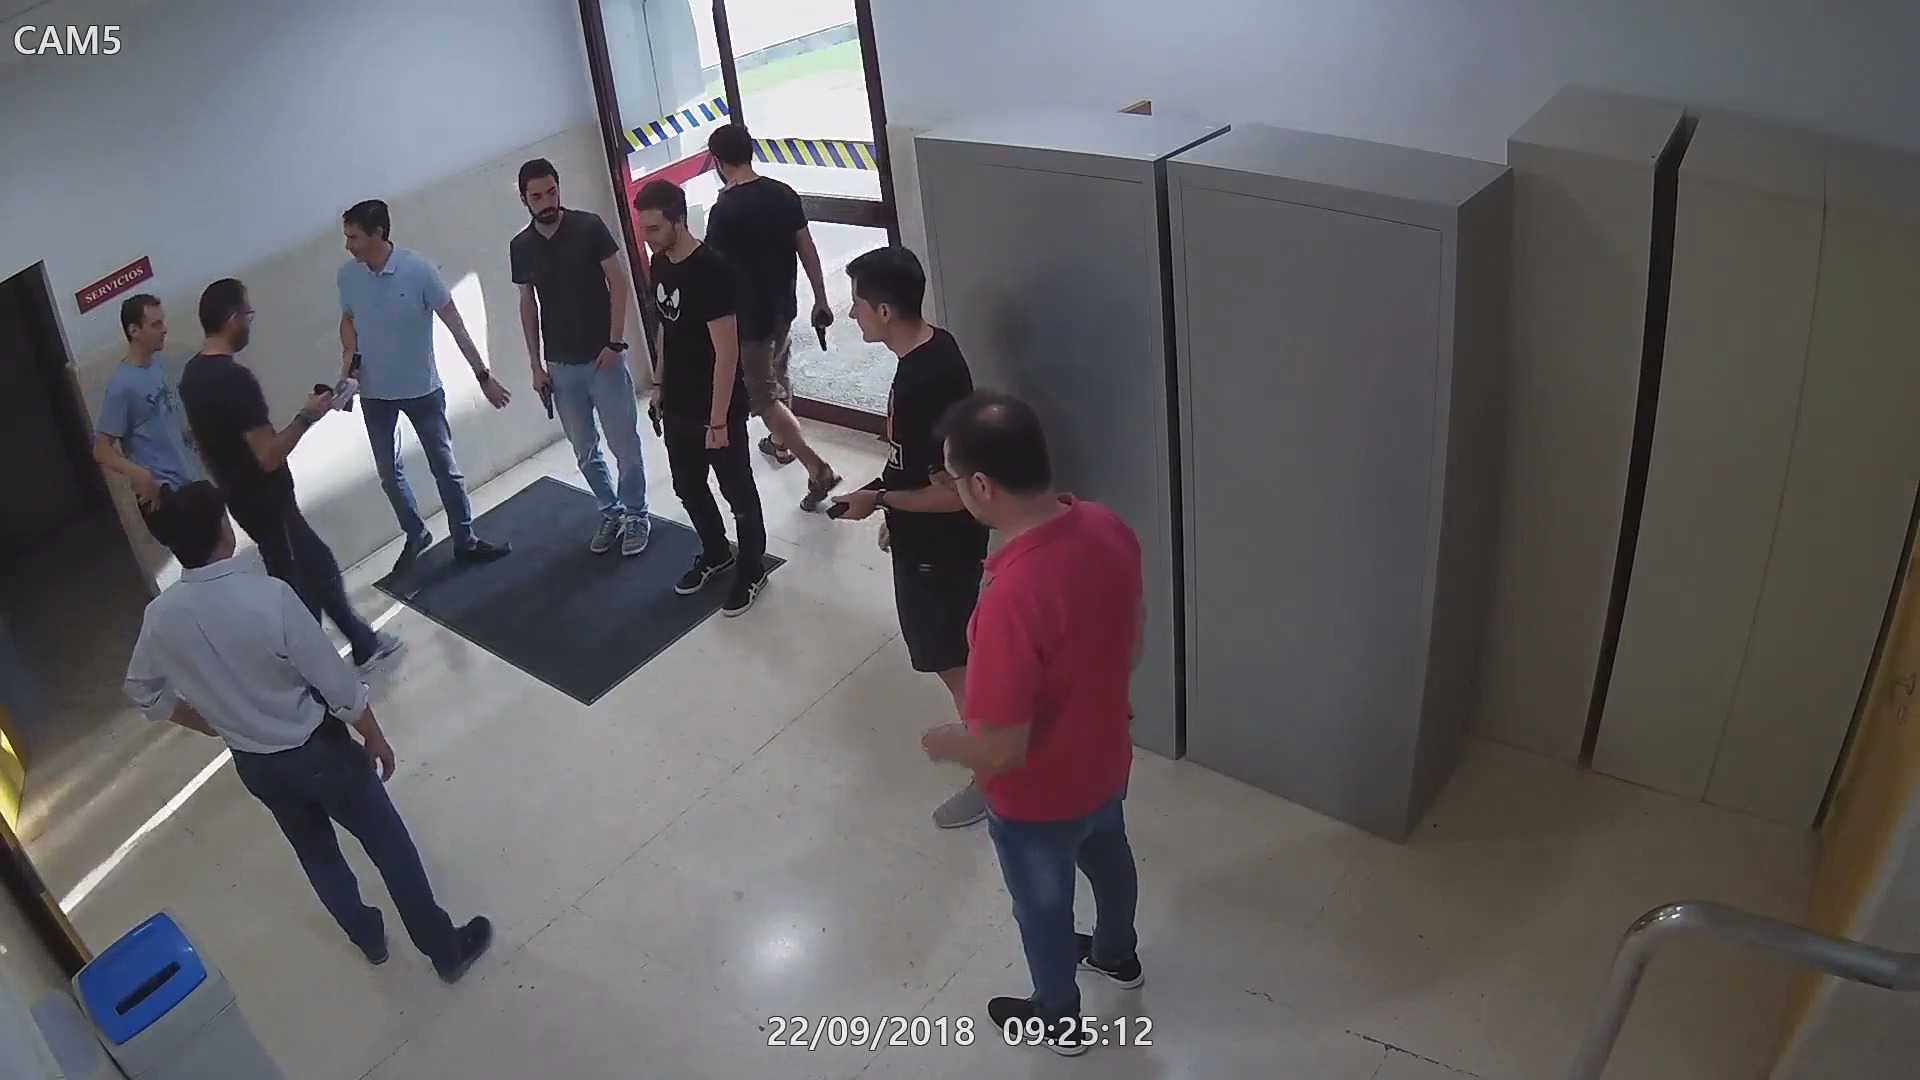Handgun: (822, 471, 891, 535), (313, 694, 349, 754), (640, 384, 667, 442), (808, 301, 837, 353), (531, 371, 558, 421), (142, 479, 170, 514)
